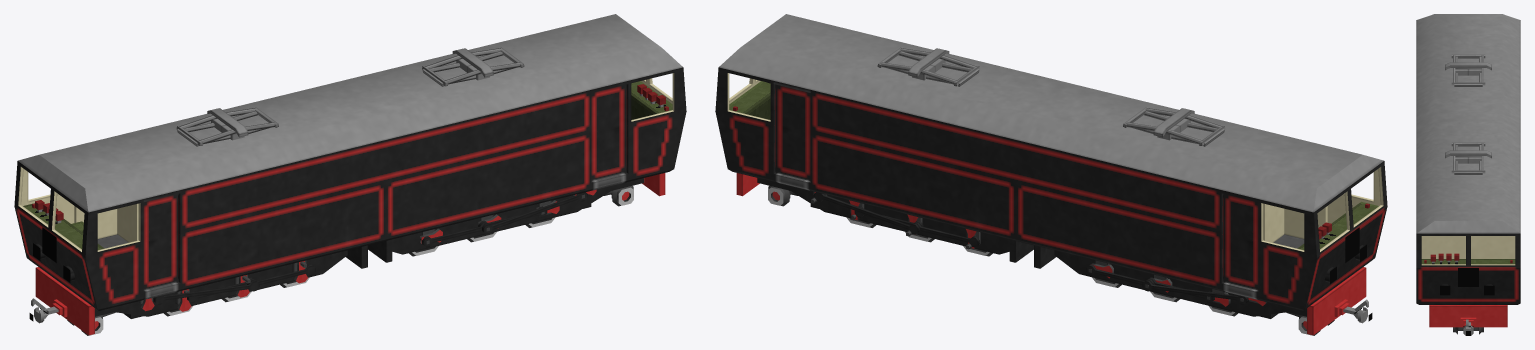
File: kitsune_zeus_locomotive.obj
The picture shows the model from 3 angles, left to right: view 1: azimuth 30°, elevation 25°; view 2: azimuth 150°, elevation 25°; view 3: azimuth 270°, elevation 25°; orthographic projection. The views are drawn at different scales.
Visible parts, largest first — view 1: FRAME_ext, FRAME_ext_roof, FRONT_LOCOMOTIVE, REAR_LOCOMOTIVE, DOOR_2_EXTERNAL, DOOR_3_EXTERNAL, FRAME_int, SIDE_ROD_RIGHT_REAR, SIDE_ROD_LEFT_FRONT, FRAME_cab.001, FRAME_cab, DOOR_4_EXTERNAL (+2 smaller); view 2: FRAME_ext, FRAME_ext_roof, FRONT_LOCOMOTIVE, REAR_LOCOMOTIVE, DOOR_1_EXTERNAL, DOOR_4_EXTERNAL, FRAME_int, SIDE_ROD_LEFT_REAR, SIDE_ROD_RIGHT_FRONT, FRAME_cab.001, FRAME_cab, DOOR_3_EXTERNAL (+2 smaller); view 3: FRAME_ext_roof, FRAME_ext, REAR_LOCOMOTIVE, FRAME_int, DOOR_5, FRAME_cab.001, HEADLIGHT_4_0xFFF0E1_LCG_REVERSERBACKWARD, pantohead1, pantohead2, REAR_LOCOMOTIVE.003, pantoarmtopfront1, pantoarmtopfront2 (+8 smaller).
Boxes of the visible parts, x1,y1,x2,y2 form: FRAME_ext: (14, 67, 686, 310); FRAME_ext_roof: (18, 14, 682, 212); FRONT_LOCOMOTIVE: (35, 245, 367, 335); REAR_LOCOMOTIVE: (368, 173, 665, 262); DOOR_2_EXTERNAL: (591, 84, 626, 180); DOOR_3_EXTERNAL: (143, 194, 178, 290); FRAME_int: (18, 73, 674, 251); SIDE_ROD_RIGHT_REAR: (422, 192, 587, 247); SIDE_ROD_LEFT_FRONT: (153, 264, 315, 304); FRAME_cab.001: (631, 81, 672, 119); FRAME_cab: (23, 203, 104, 249); DOOR_4_EXTERNAL: (74, 206, 112, 237); FRAME_ext: (715, 67, 1387, 310); FRAME_ext_roof: (719, 14, 1383, 212); FRONT_LOCOMOTIVE: (1034, 245, 1366, 335); REAR_LOCOMOTIVE: (736, 173, 1033, 262); DOOR_1_EXTERNAL: (775, 84, 810, 180); DOOR_4_EXTERNAL: (1223, 194, 1258, 290); FRAME_int: (727, 73, 1383, 251); SIDE_ROD_LEFT_REAR: (814, 192, 979, 247); SIDE_ROD_RIGHT_FRONT: (1086, 264, 1248, 304); FRAME_cab.001: (729, 81, 770, 119); FRAME_cab: (1297, 201, 1378, 249); DOOR_3_EXTERNAL: (1289, 206, 1327, 237); FRAME_ext_roof: (1416, 14, 1520, 233); FRAME_ext: (1416, 233, 1520, 304); REAR_LOCOMOTIVE: (1429, 305, 1507, 327); FRAME_int: (1421, 236, 1515, 265); DOOR_5: (1447, 236, 1489, 258); FRAME_cab.001: (1421, 259, 1515, 264); HEADLIGHT_4_0xFFF0E1_LCG_REVERSERBACKWARD: (1458, 268, 1478, 286); pantohead1: (1445, 150, 1491, 158); pantohead2: (1445, 62, 1491, 70); REAR_LOCOMOTIVE.003: (1460, 317, 1476, 335); pantoarmtopfront1: (1451, 142, 1485, 157); pantoarmtopfront2: (1451, 54, 1485, 69).
Size of the model in its own units: 13 by 3.44 by 2.5.
Materials: 6 (6 with a texture image).
